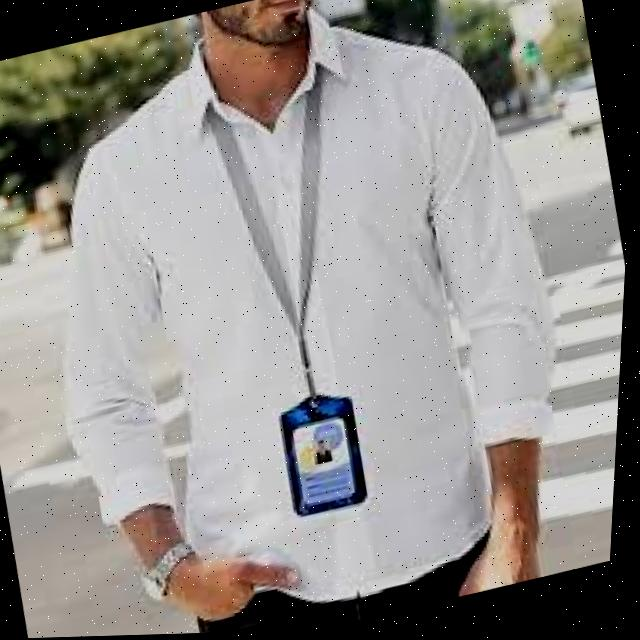id_card: (183, 87, 413, 537)
